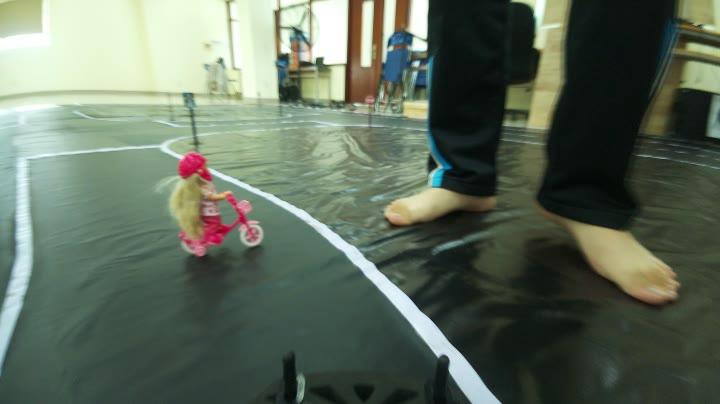pedestrian: (160, 149, 266, 264)
